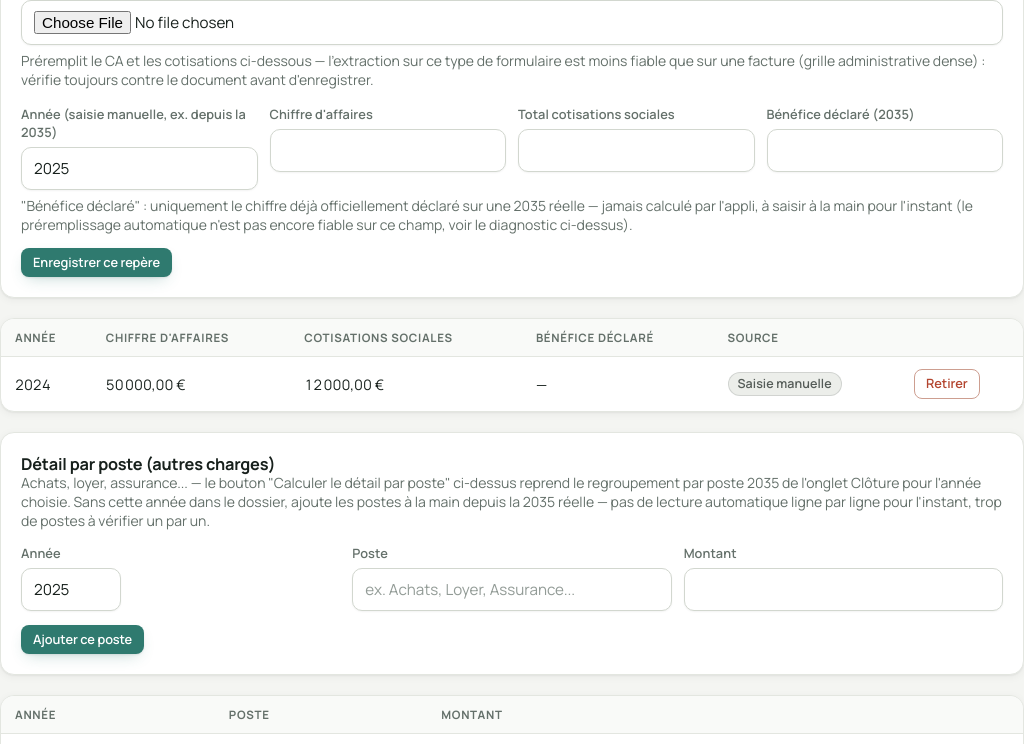
Test: EstimationTab — un retrait refusé se dit › un retrait accepté ne dit rien, et la ligne part
This screenshot has width=1024, height=744.
(page scrolled)
What coordinates should you click on to do the following:
click the button "Retirer" in the row of "50 000,00 €"
I would click on:
 (947, 384)
Its box is top-left (914, 369), bottom-right (980, 399).
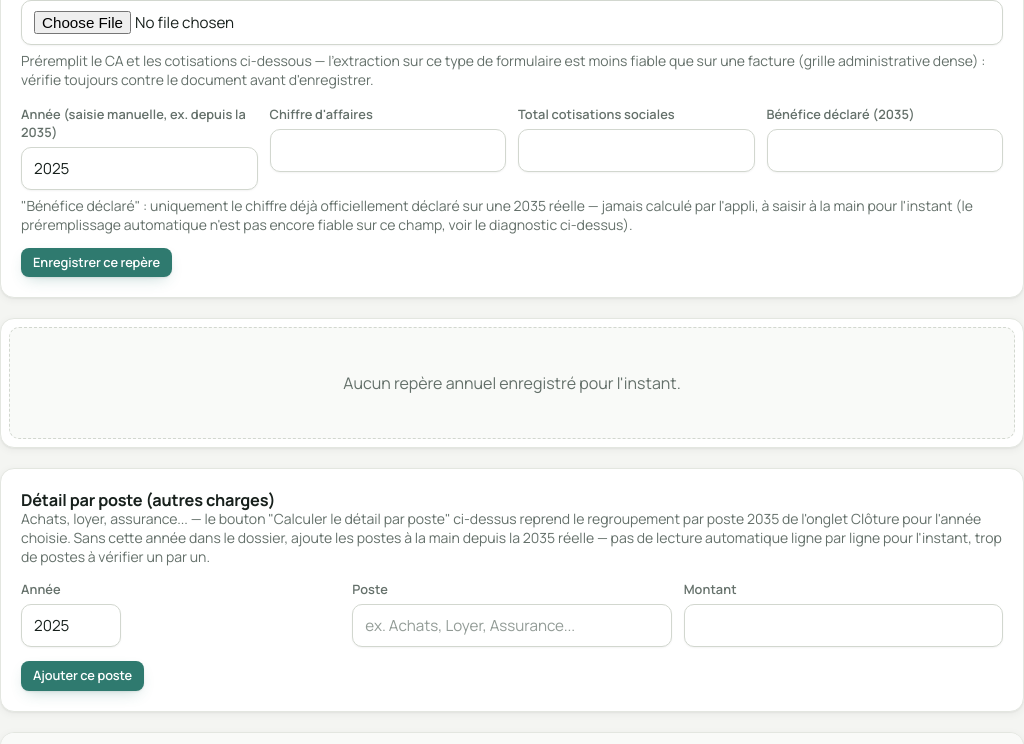
Check: the text "Aucun repère annuel enregistré pour l'instant." is shown, box top-left (9, 327), bottom-right (1015, 439)
